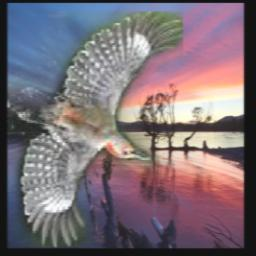Woodpecker: (7, 12, 183, 247)
